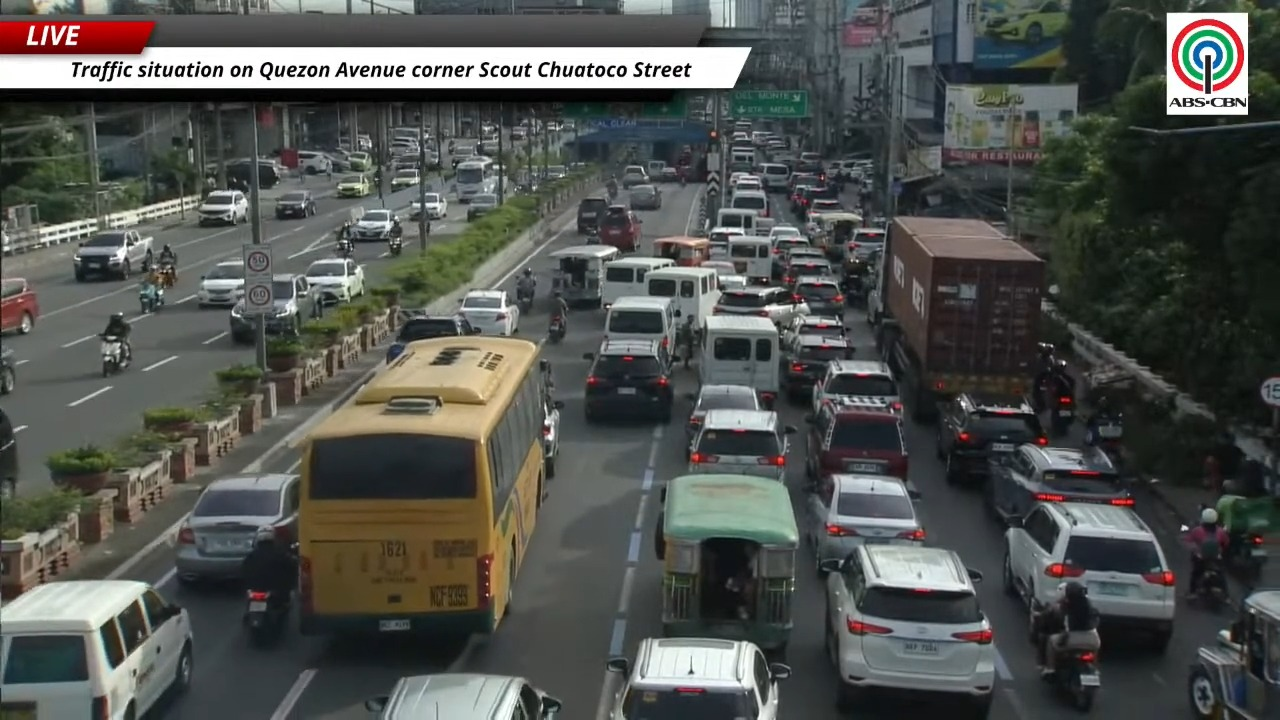bus: (297, 337, 546, 635), (454, 156, 497, 202)
car: (820, 544, 997, 718), (0, 579, 199, 719), (1002, 502, 1175, 653), (606, 638, 790, 719), (175, 473, 299, 583), (984, 443, 1134, 522), (802, 473, 925, 565), (936, 392, 1047, 483), (364, 672, 562, 719), (805, 397, 908, 486), (688, 409, 796, 481), (583, 339, 673, 422), (780, 331, 854, 403), (812, 359, 901, 413), (686, 384, 761, 447), (385, 315, 477, 363), (983, 0, 1067, 46), (712, 286, 808, 325), (265, 273, 320, 336), (458, 289, 519, 335), (304, 258, 365, 303), (771, 236, 824, 279), (196, 260, 244, 307), (0, 278, 39, 332), (597, 205, 641, 251), (793, 276, 844, 315), (781, 314, 848, 343), (782, 256, 835, 291), (196, 190, 248, 225), (0, 409, 18, 500), (544, 399, 564, 478), (351, 210, 397, 241), (845, 228, 885, 261), (275, 190, 317, 219), (797, 184, 837, 214), (707, 227, 745, 258), (577, 196, 608, 233), (788, 180, 816, 219), (410, 193, 448, 220), (466, 193, 499, 221), (336, 173, 372, 197), (628, 185, 661, 210), (297, 151, 332, 174), (0, 347, 16, 394), (807, 198, 846, 217), (620, 165, 649, 189), (769, 224, 803, 244), (788, 172, 820, 193), (700, 260, 736, 278), (730, 175, 764, 194), (391, 169, 420, 189), (346, 151, 372, 171), (718, 275, 748, 290), (659, 166, 679, 182), (546, 165, 568, 179)
motorcycle: (1043, 646, 1100, 711), (1045, 649, 1100, 711), (245, 589, 288, 645), (1189, 555, 1229, 612), (1084, 413, 1123, 468), (1197, 559, 1229, 612), (100, 335, 127, 377), (1049, 395, 1074, 436), (139, 282, 163, 313), (157, 257, 176, 288), (517, 288, 534, 315), (548, 317, 565, 343), (335, 239, 353, 258), (388, 236, 402, 256), (585, 229, 600, 244), (607, 186, 617, 201), (679, 174, 686, 187)
truck: (876, 216, 1045, 422), (72, 229, 154, 281)
